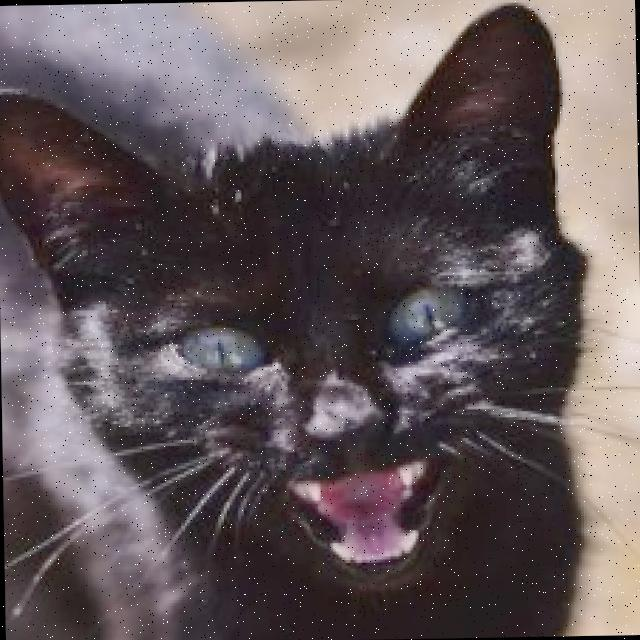Angry: (118, 276, 504, 597)
